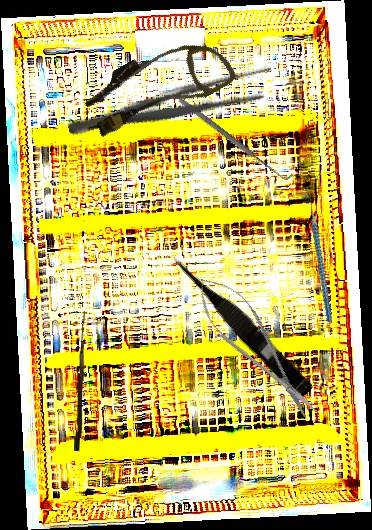Cannula: (76, 18, 239, 153)
Chopper: (279, 190, 354, 323)
Dressing Forceps: (64, 62, 279, 148)
Hook Surgical: (176, 92, 294, 185), (74, 310, 85, 452)
Micro Scissor: (183, 264, 330, 430), (167, 246, 318, 402)
